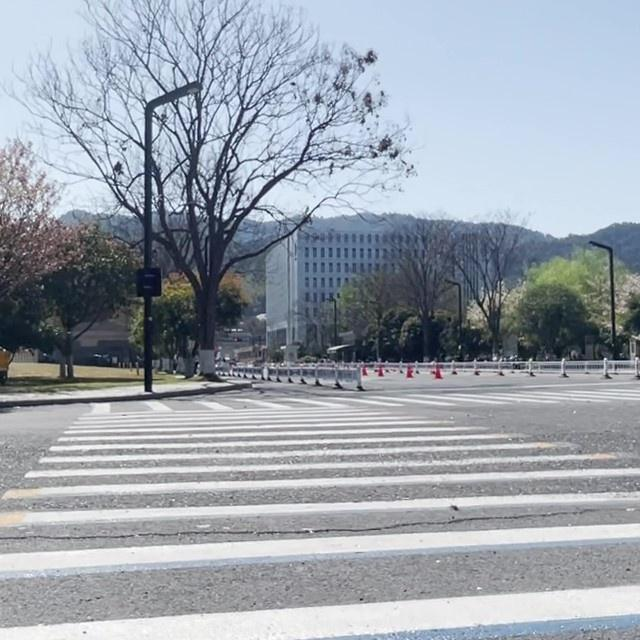curb: (0, 383, 252, 409)
